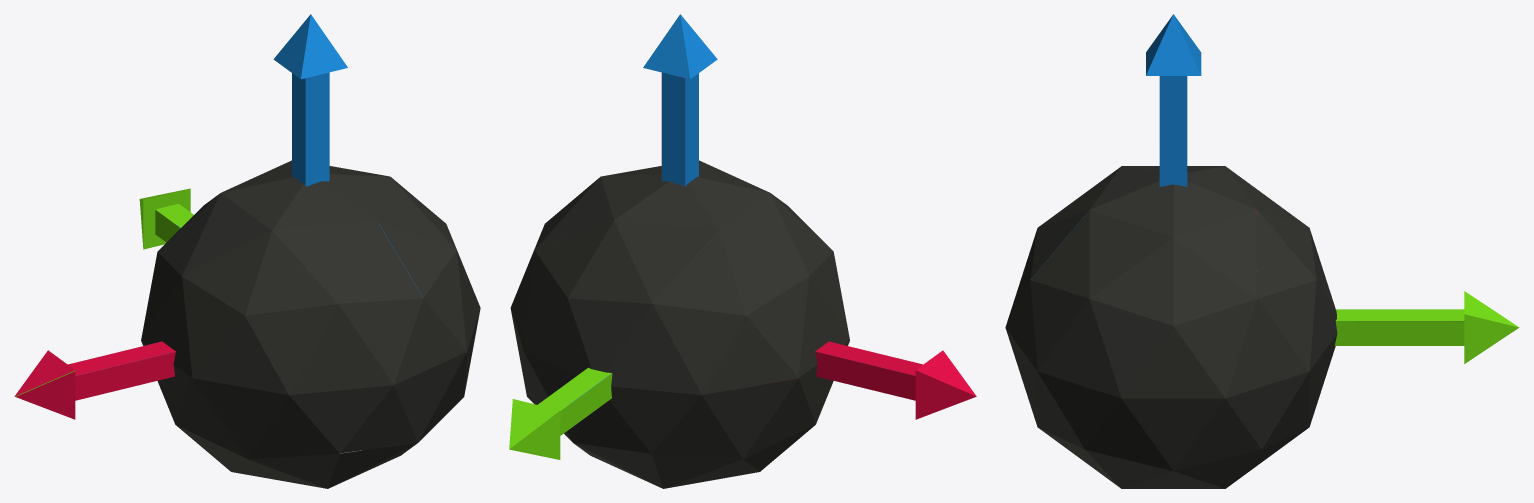
Rendered from axis.glb.
The picture shows the model from 3 angles, left to right: view 1: azimuth 30°, elevation 25°; view 2: azimuth 150°, elevation 25°; view 3: azimuth 270°, elevation 25°; orthographic projection.
Visible parts, largest first — view 1: Eixo_Join; view 2: Eixo_Join; view 3: Eixo_Join.
Part boxes in pixels (x1,y1,x2,y2): Eixo_Join: (14, 14, 480, 488); Eixo_Join: (509, 14, 976, 488); Eixo_Join: (1005, 14, 1519, 488).
Size of the model in its own units: 1.38 by 1.38 by 1.38.
Materials: 1 (1 with a texture image).
